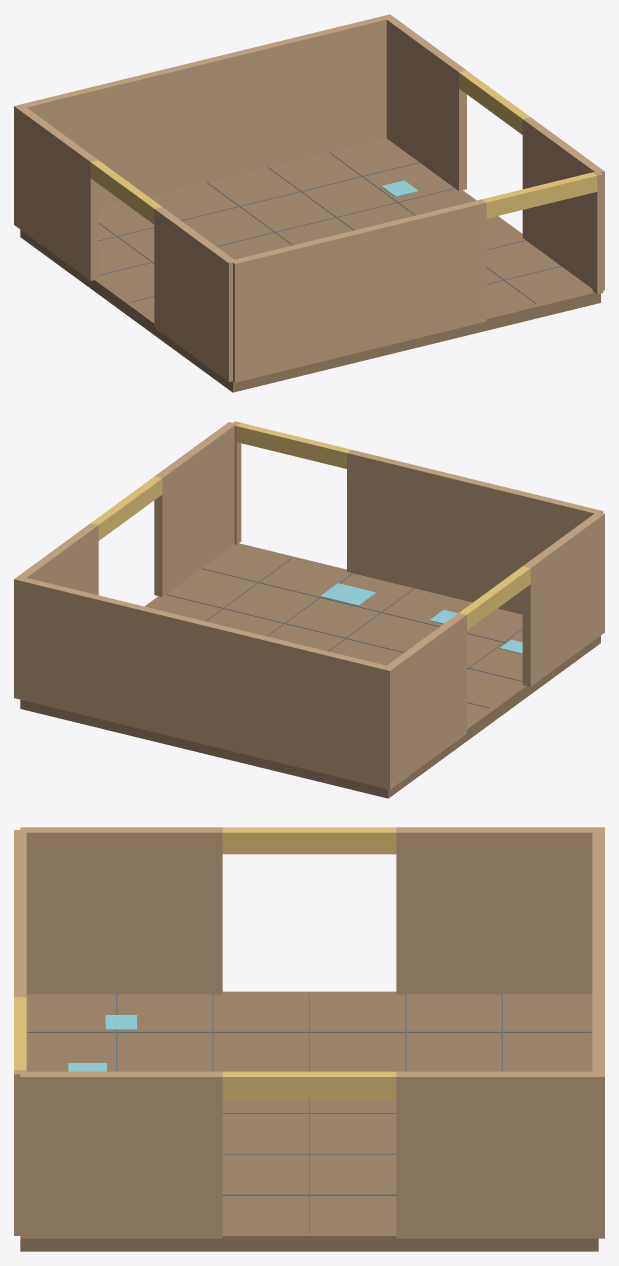
The model's file is Loot1.fbx.
3 renders of one model, top to bottom at view 1: azimuth 30°, elevation 25°; view 2: azimuth 150°, elevation 25°; view 3: azimuth 270°, elevation 25°, orthographic. The views are drawn at different scales.
Visible parts, largest first — view 1: Loot1__north_Wall, Loot1__Floor, Loot1__south_Wall_End, Loot1__east_Wall_1, Loot1__west_Wall_End, Loot1__west_Wall_1, Loot1__east_Wall_End, Loot1__south_Lintel_1, Loot1__west_Lintel_1, Loot1__east_Lintel_1, Loot1__south_Wall_1; view 2: Loot1__north_Wall, Loot1__Floor, Loot1__south_Wall_End, Loot1__west_Wall_1, Loot1__east_Wall_End, Loot1__west_Wall_End, Loot1__east_Wall_1, Loot1__south_Lintel_1, Loot1__east_Lintel_1, Loot1__west_Lintel_1, Loot1__south_Wall_1, Loot1__Pad_LootSpawn_03_Big; view 3: Loot1__Floor, Loot1__east_Wall_1, Loot1__east_Wall_End, Loot1__west_Wall_1, Loot1__west_Wall_End, Loot1__east_Lintel_1, Loot1__west_Lintel_1, Loot1__north_Wall, Loot1__south_Wall_End, Loot1__south_Wall_1, Loot1__Floor_Mark_X, Loot1__south_Lintel_1.
Part boxes in pixels (x1=…): Loot1__north_Wall: x1=14, y1=14, x2=393, y2=227; Loot1__Floor: x1=20, y1=138, x2=600, y2=392; Loot1__south_Wall_End: x1=231, y1=199, x2=486, y2=382; Loot1__east_Wall_1: x1=385, y1=16, x2=466, y2=190; Loot1__west_Wall_End: x1=16, y1=106, x2=98, y2=280; Loot1__west_Wall_1: x1=154, y1=207, x2=236, y2=381; Loot1__east_Wall_End: x1=522, y1=117, x2=604, y2=290; Loot1__south_Lintel_1: x1=482, y1=172, x2=597, y2=218; Loot1__west_Lintel_1: x1=90, y1=160, x2=161, y2=224; Loot1__east_Lintel_1: x1=459, y1=70, x2=529, y2=134; Loot1__south_Wall_1: x1=592, y1=171, x2=603, y2=294; Loot1__north_Wall: x1=14, y1=576, x2=394, y2=789; Loot1__Floor: x1=20, y1=543, x2=600, y2=798; Loot1__south_Wall_End: x1=347, y1=450, x2=603, y2=614; Loot1__west_Wall_1: x1=522, y1=512, x2=604, y2=686; Loot1__east_Wall_End: x1=154, y1=422, x2=236, y2=596; Loot1__west_Wall_End: x1=385, y1=613, x2=466, y2=785; Loot1__east_Wall_1: x1=16, y1=523, x2=98, y2=595; Loot1__south_Lintel_1: x1=236, y1=423, x2=351, y2=468; Loot1__east_Lintel_1: x1=91, y1=476, x2=162, y2=540; Loot1__west_Lintel_1: x1=459, y1=566, x2=530, y2=630; Loot1__south_Wall_1: x1=231, y1=421, x2=241, y2=544; Loot1__Pad_LootSpawn_03_Big: x1=320, y1=583, x2=376, y2=605; Loot1__Floor: x1=20, y1=991, x2=598, y2=1251; Loot1__east_Wall_1: x1=396, y1=1071, x2=598, y2=1238; Loot1__east_Wall_End: x1=20, y1=1071, x2=222, y2=1238; Loot1__west_Wall_1: x1=20, y1=827, x2=222, y2=994; Loot1__west_Wall_End: x1=396, y1=827, x2=598, y2=994; Loot1__east_Lintel_1: x1=222, y1=1071, x2=396, y2=1098; Loot1__west_Lintel_1: x1=222, y1=827, x2=396, y2=854; Loot1__north_Wall: x1=592, y1=827, x2=604, y2=1238; Loot1__south_Wall_End: x1=14, y1=830, x2=26, y2=996; Loot1__south_Wall_1: x1=14, y1=1070, x2=26, y2=1235; Loot1__Floor_Mark_X: x1=27, y1=1031, x2=591, y2=1032; Loot1__south_Lintel_1: x1=14, y1=997, x2=26, y2=1070.
Size of the model in its own units: 1226 by 406 by 1226.
